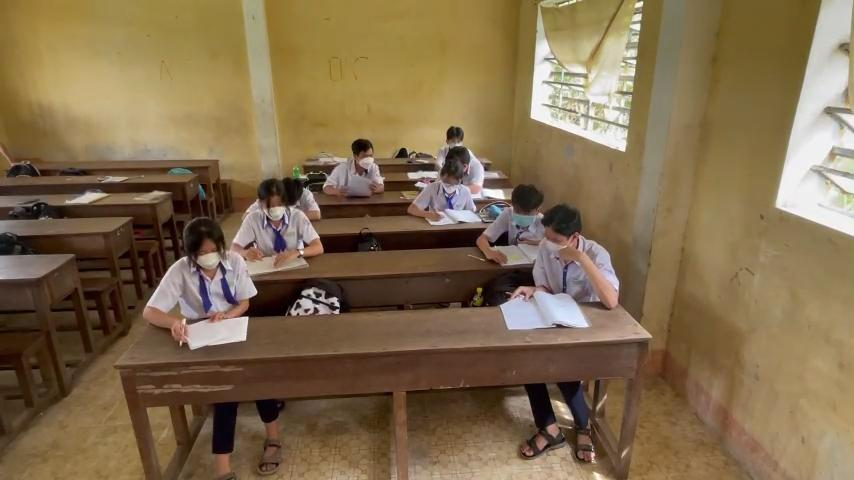Hand Under Table: (457, 185, 479, 221)
Wave: (554, 240, 616, 324)
